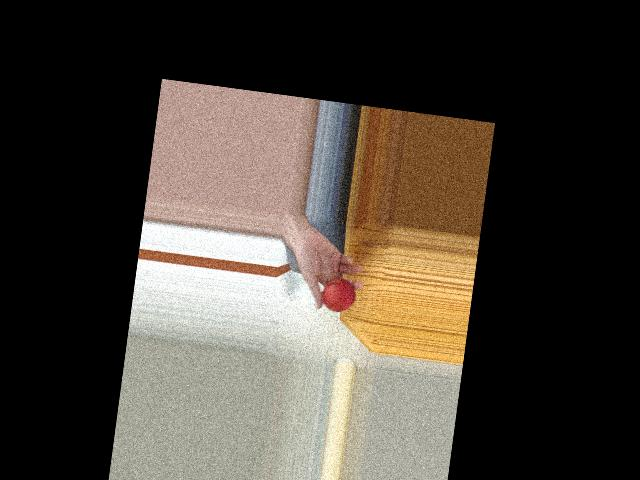apple: (315, 275, 357, 316)
